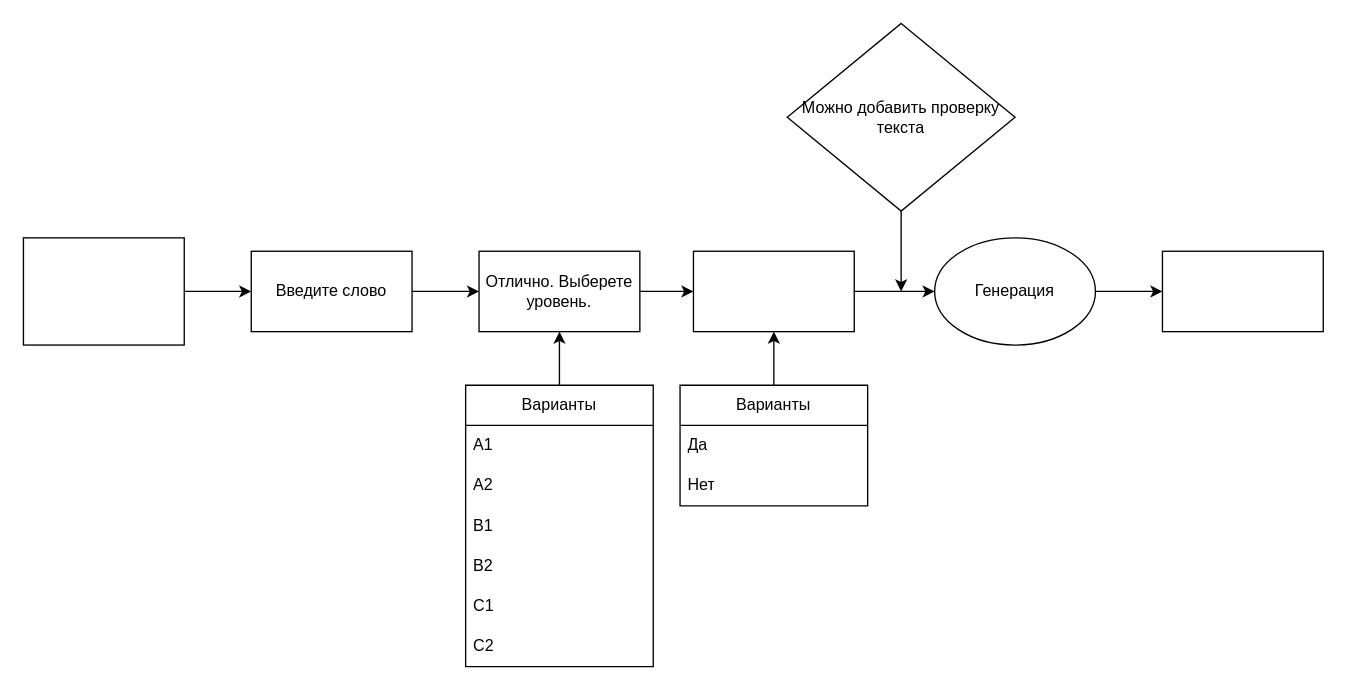
Image size: 1347x690. Some labels were removed from this diagram. Each missing label, with the centre of its shape:
Вам нужен перевод после каждого предложения?: the point at 773,291
Вот ваш аудиофайл. Наслаждайтесь.: the point at 1242,291
Привет. Предложения с каким словом вы хотите послушать сегодня?: the point at 103,291
